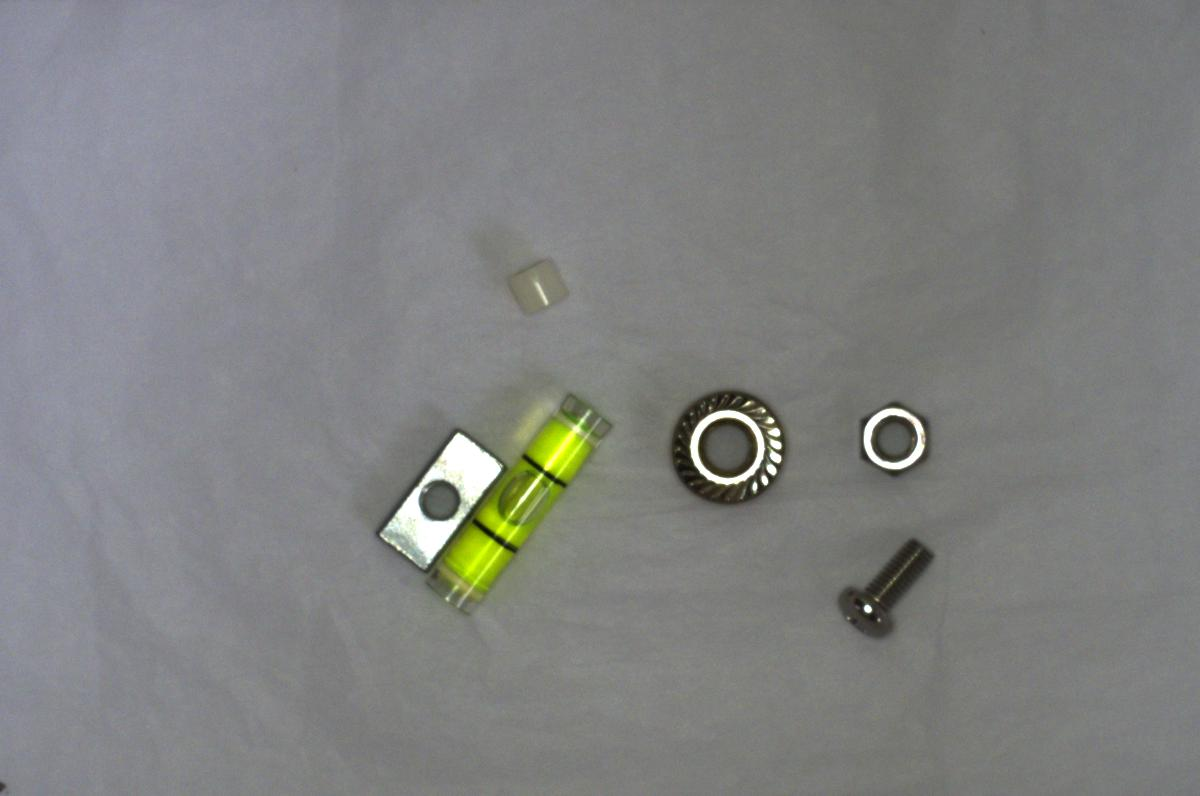Flange nut: (661, 376, 788, 512)
Hexagon nut: (851, 389, 941, 482)
Horizontal bubble: (418, 389, 614, 613)
Plastic cushion pillar: (507, 247, 574, 319)
Rectangular nut: (378, 421, 495, 569)
Round head screw: (826, 530, 941, 639)
